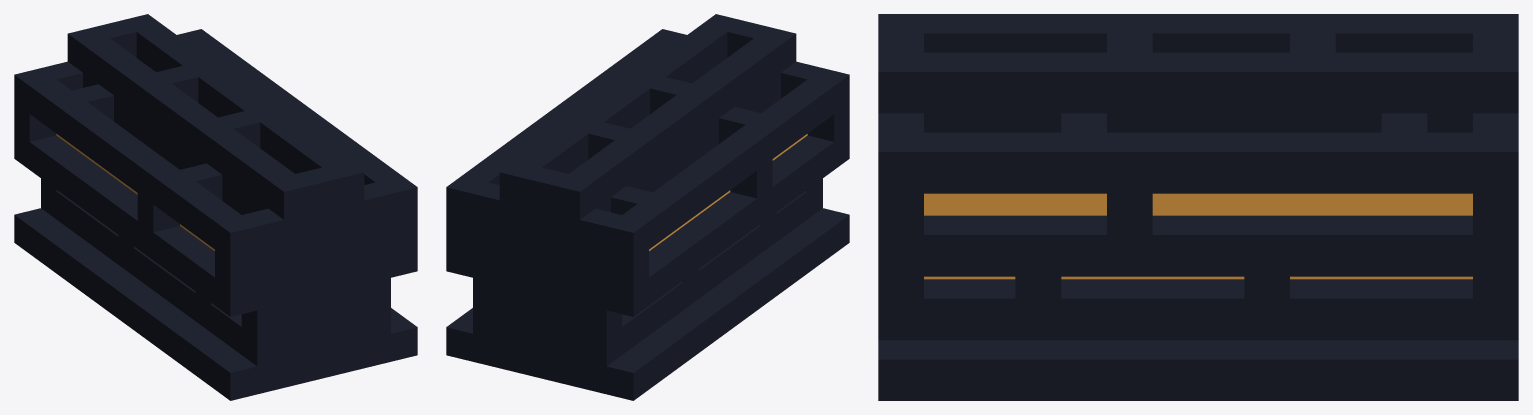
File: MiddleSmall1.obj
3 renders of one model, left to right at view 1: azimuth 30°, elevation 25°; view 2: azimuth 150°, elevation 25°; view 3: azimuth 270°, elevation 25°, orthographic. The views are drawn at different scales.
Bounding box in the file's own units: 7 × 7 × 14.
1 material, 1 textured.
